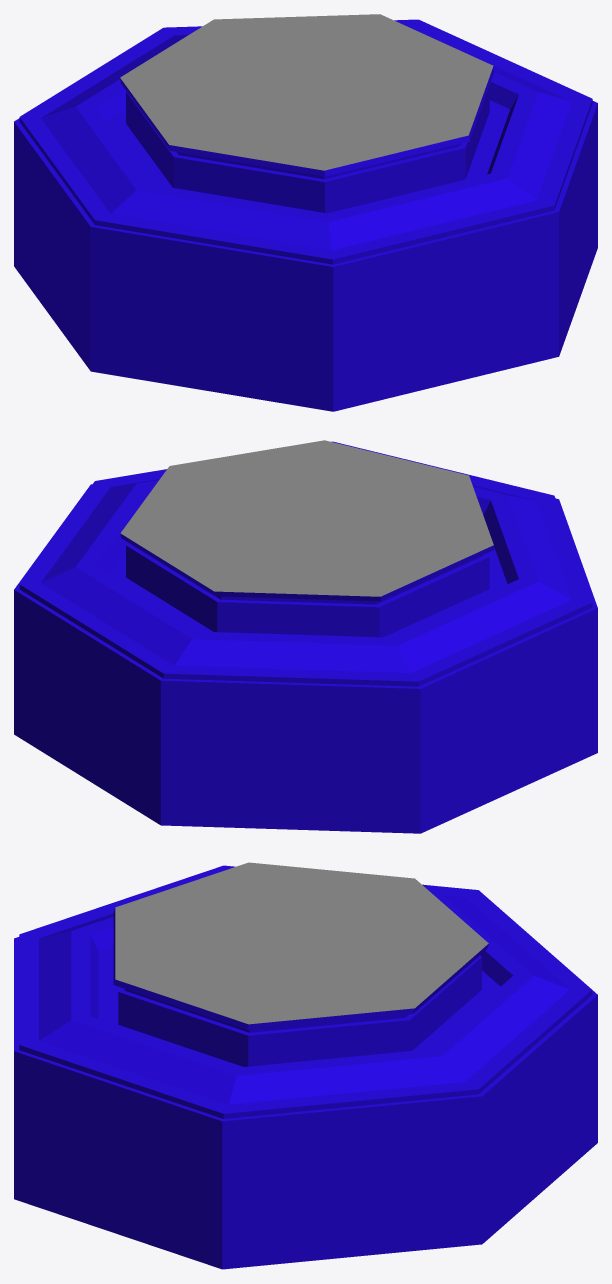
Rendered from landingPad.fbx.
3 views of the same model, one above another, from view 1: azimuth 30°, elevation 25°; view 2: azimuth 150°, elevation 25°; view 3: azimuth 270°, elevation 25° (orthographic). The views are drawn at different scales.
Parts seen in each view (by area): view 1: Landing Pad; view 2: Landing Pad; view 3: Landing Pad.
Boxes of the visible parts, x1,y1,x2,y2 form: Landing Pad: [14, 14, 597, 411]; Landing Pad: [14, 440, 597, 833]; Landing Pad: [14, 862, 597, 1269].
Size of the model in its own units: 110 by 40.32 by 107.
